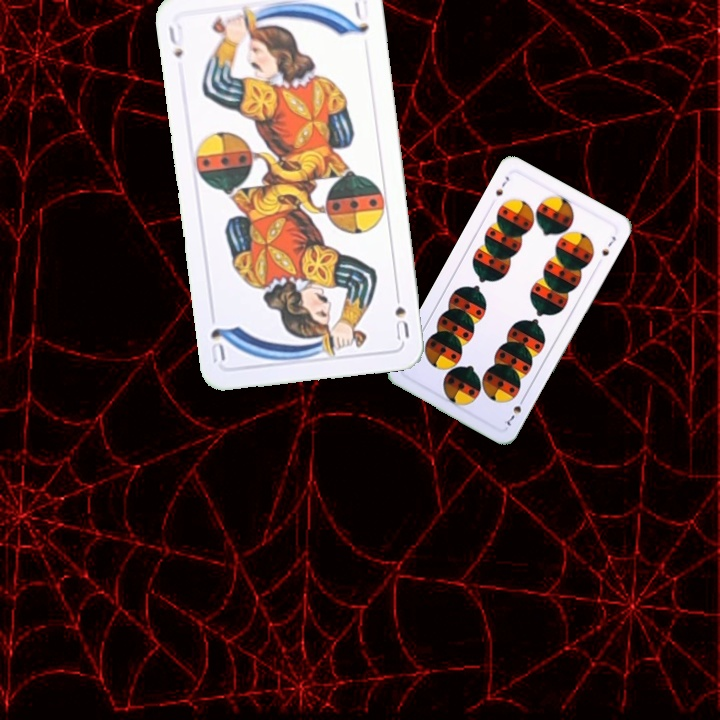S7: (500, 393, 528, 429), (491, 172, 512, 199)
SU: (390, 285, 412, 343), (164, 20, 187, 61)
